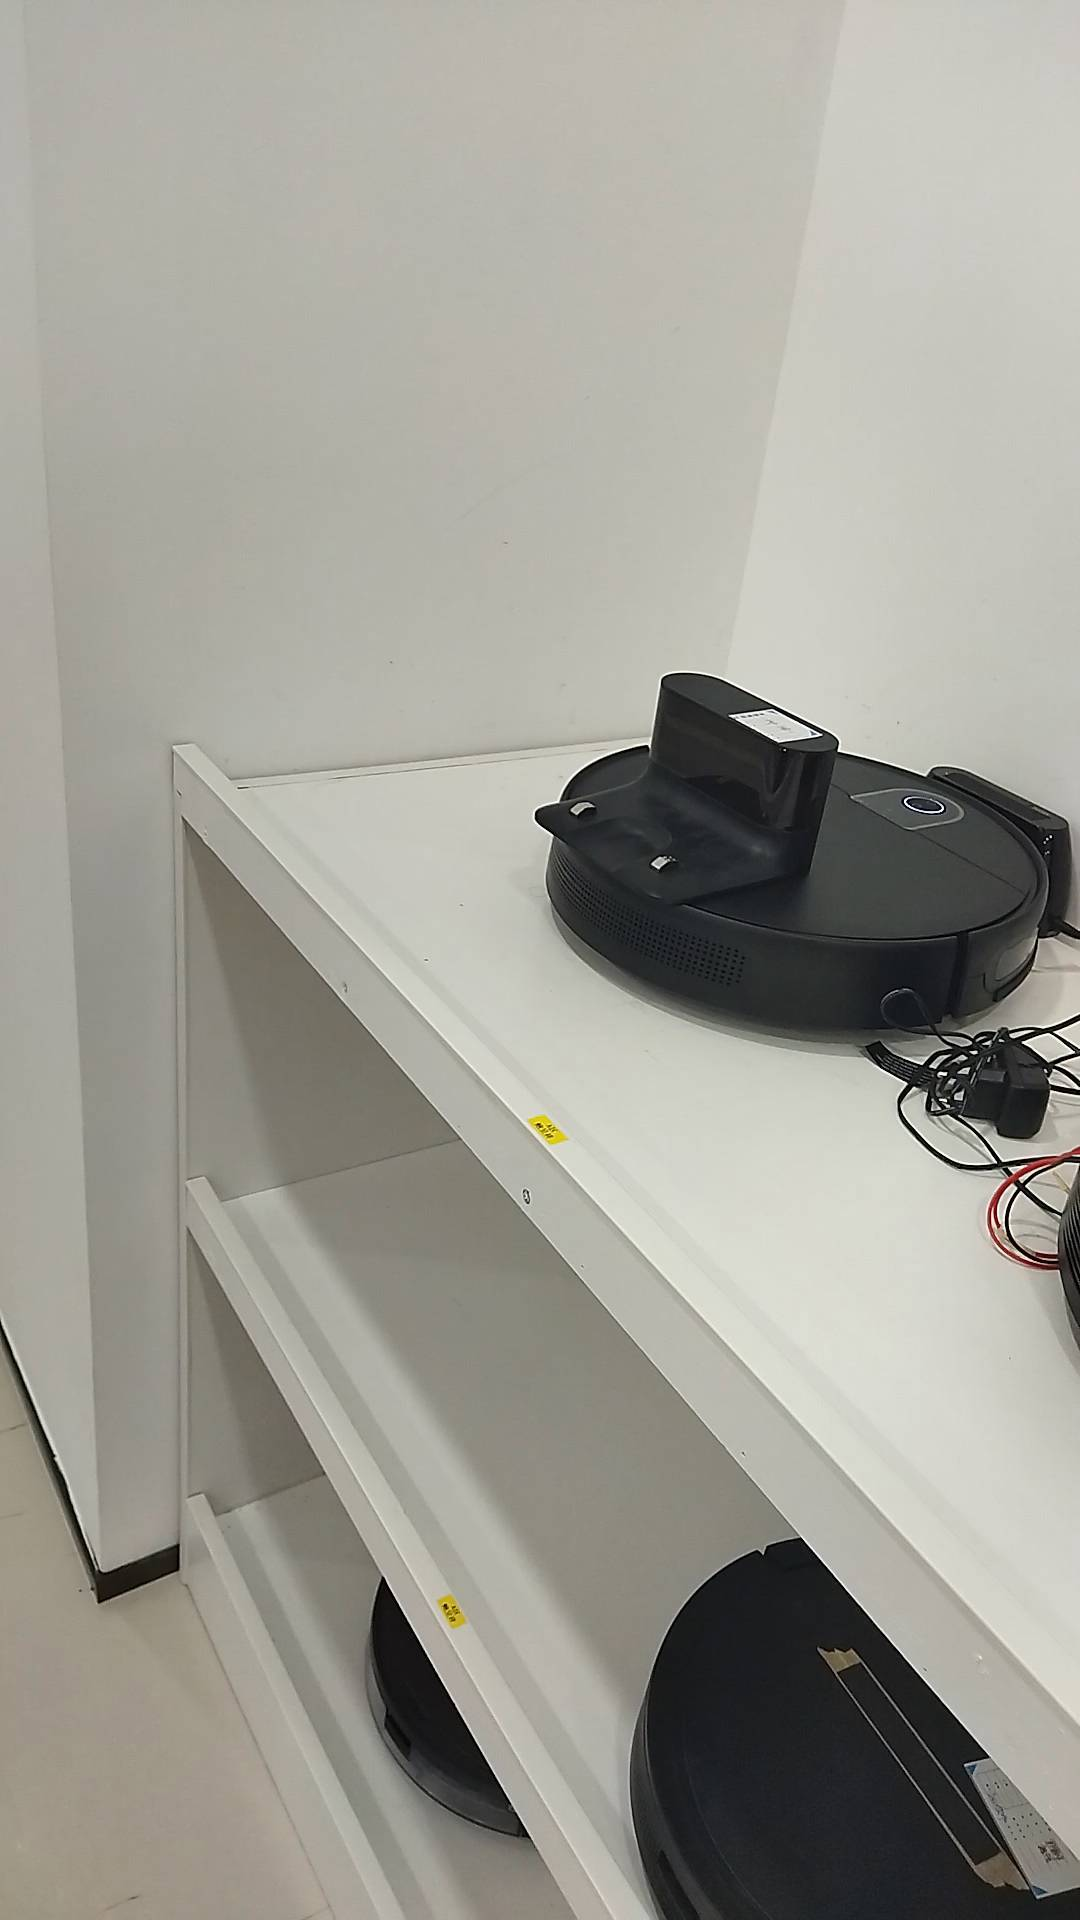recharge seat: (535, 676, 843, 909)
